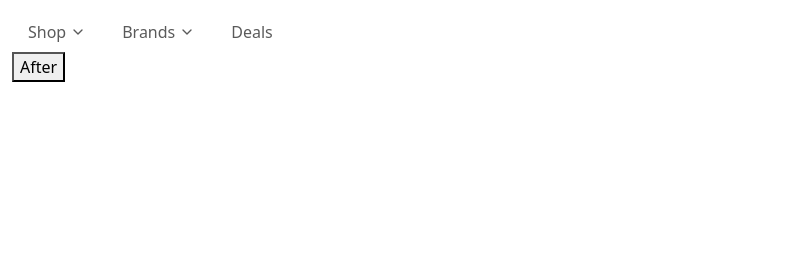
Test: MegaMenu › AC-7: opening a panel closes any other
What coordinates should you click on to do the following:
click the button "Shop"
I would click on:
 (57, 32)
Its box is [12, 12, 102, 52].
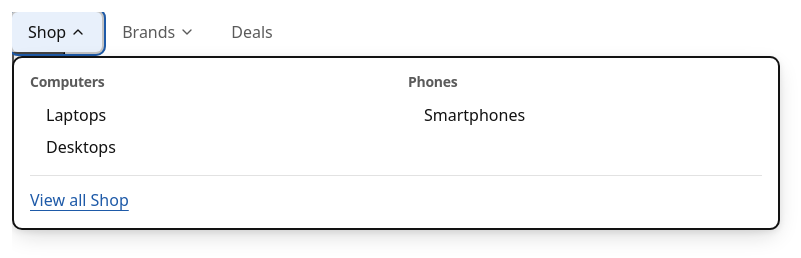
What coordinates should you click on to do the following:
click the button "Brands"
I would click on:
 (159, 32)
Its box is [106, 12, 211, 52].
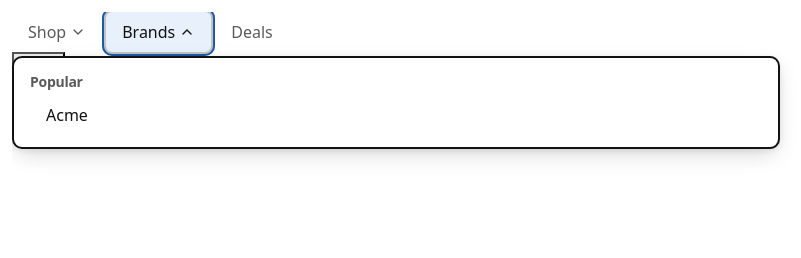
Check: the button "Shop" is collapsed, box [12, 12, 102, 52]
Check: the button "Brands" is expanded, box [106, 12, 211, 52]
